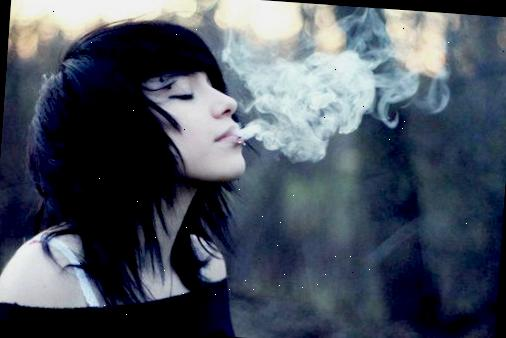smoke: (236, 14, 405, 169)
